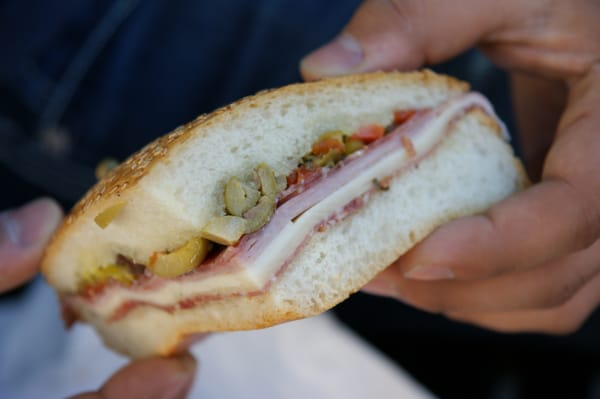burger: (38, 67, 527, 362)
